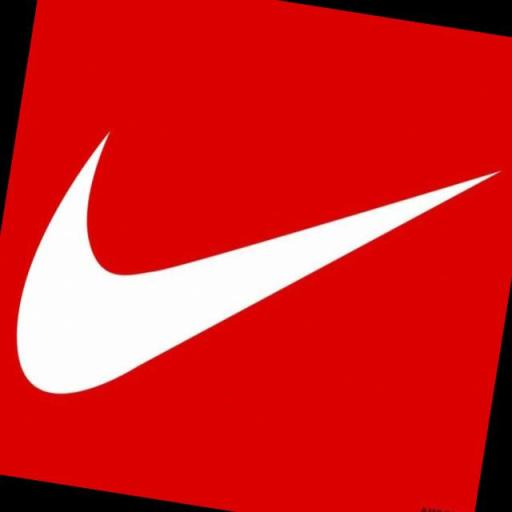Nike: (2, 92, 508, 467)
